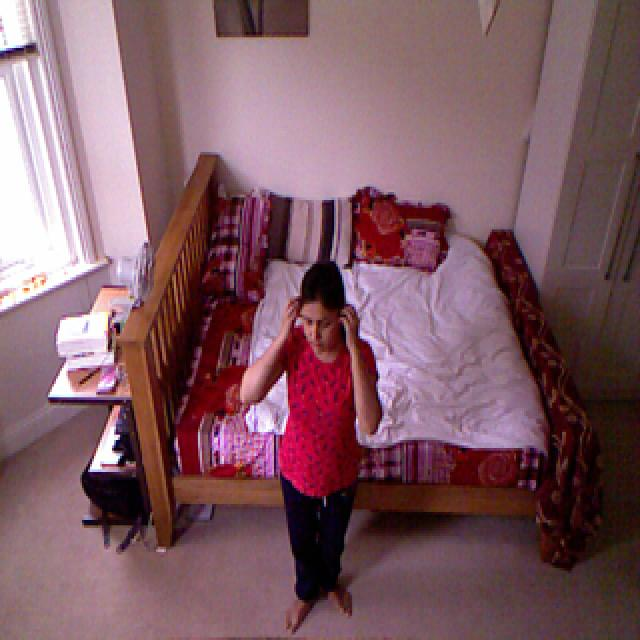standing: (250, 258, 392, 640)
